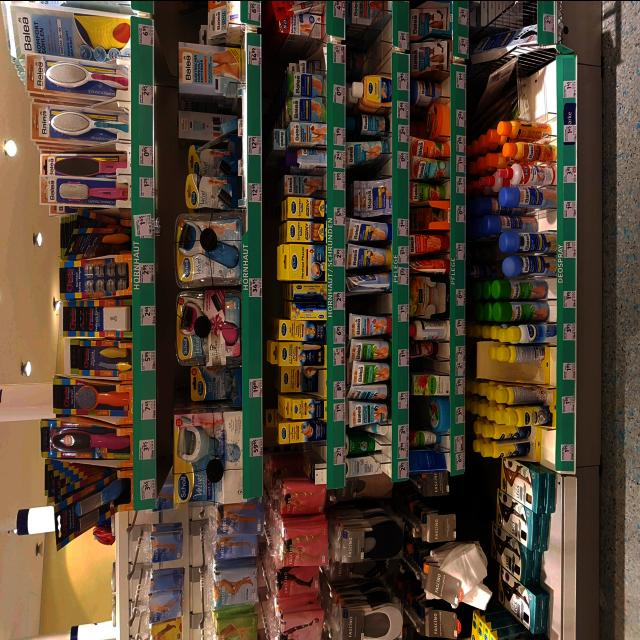empty_space: (516, 68, 558, 104), (281, 443, 319, 469), (357, 43, 391, 65), (355, 13, 389, 35), (277, 42, 323, 58), (358, 294, 390, 308)
